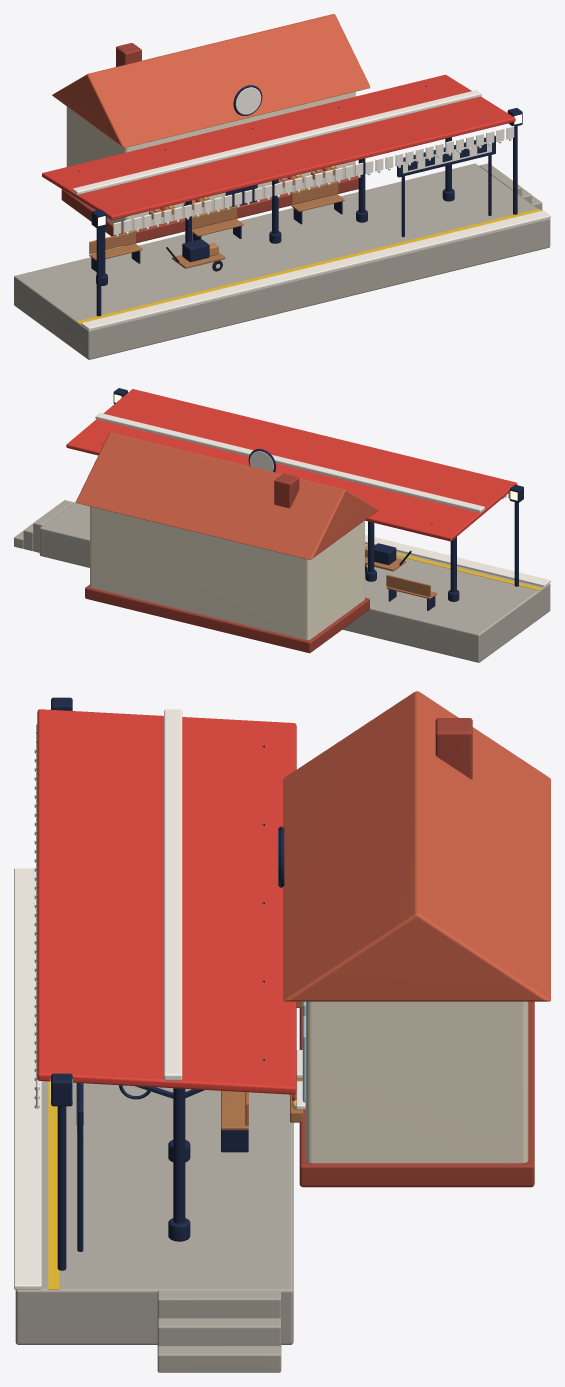
The model's file is station.glb.
3 views of the same model, one above another, from view 1: azimuth 30°, elevation 25°; view 2: azimuth 150°, elevation 25°; view 3: azimuth 270°, elevation 25° (orthographic). The views are drawn at different scales.
Visible parts, largest first — view 1: station; view 2: station; view 3: station.
Boxes of the visible parts, <box> form: station: <box>14,14,550,359</box>; station: <box>14,388,550,662</box>; station: <box>14,691,550,1372</box>.
Bounding box in the file's own units: 17.05 × 6.2 × 8.69.
Materials: 1 (1 with a texture image).
